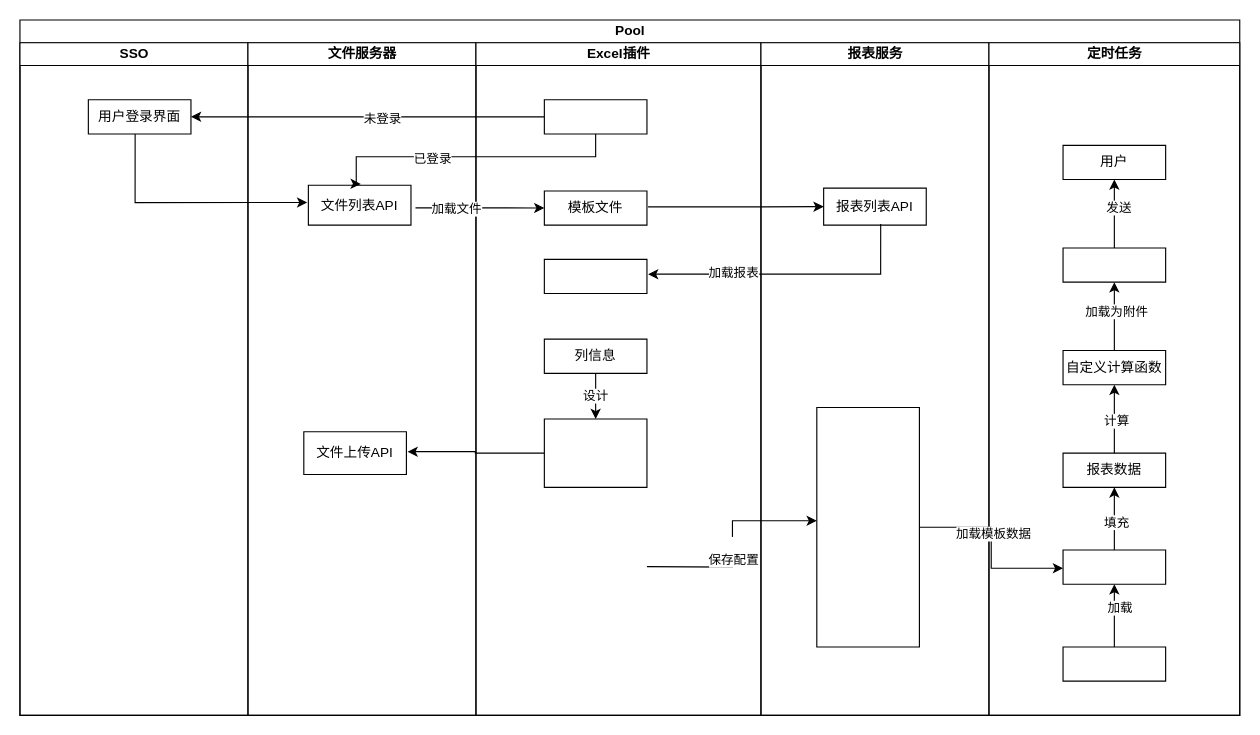
Some shapes in this 1260 by 735 pixel diagram are drawn without their labels. The shapes that lost their labels are listed below. From the top down, each one's centre as x and y in pixels, then its label:
the point at 595,116: 用户信息
the point at 595,276: 报表树面板
the point at 1114,264: 邮件
the point at 595,452: 列 绑定 自定义函数 Excel函数
the point at 867,526: 模板API
the point at 1114,566: 任务模板
the point at 1114,663: 后台任务
